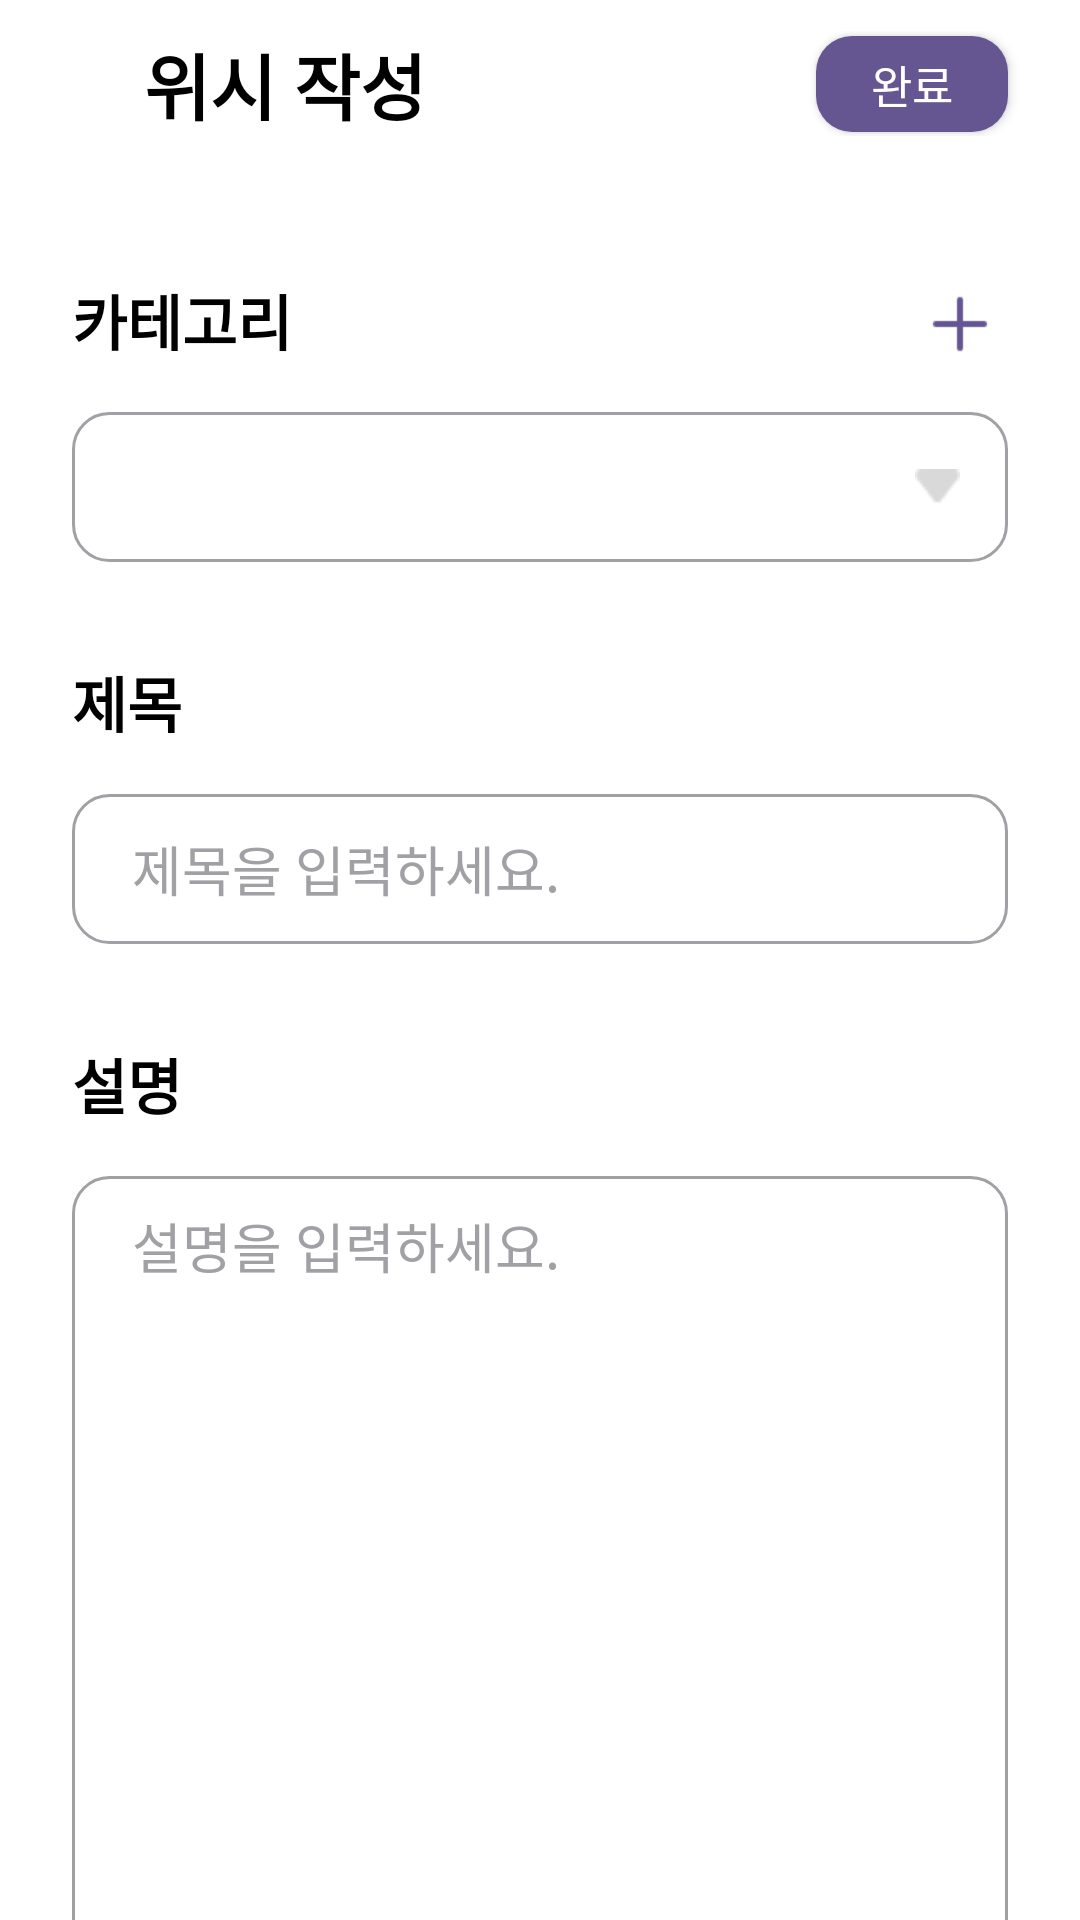

Screen size 1080px x 1920px. Icon name, then its box in pixels as bbox(x1, y1, x2, y2):
plus: bbox(932, 296, 988, 352)
